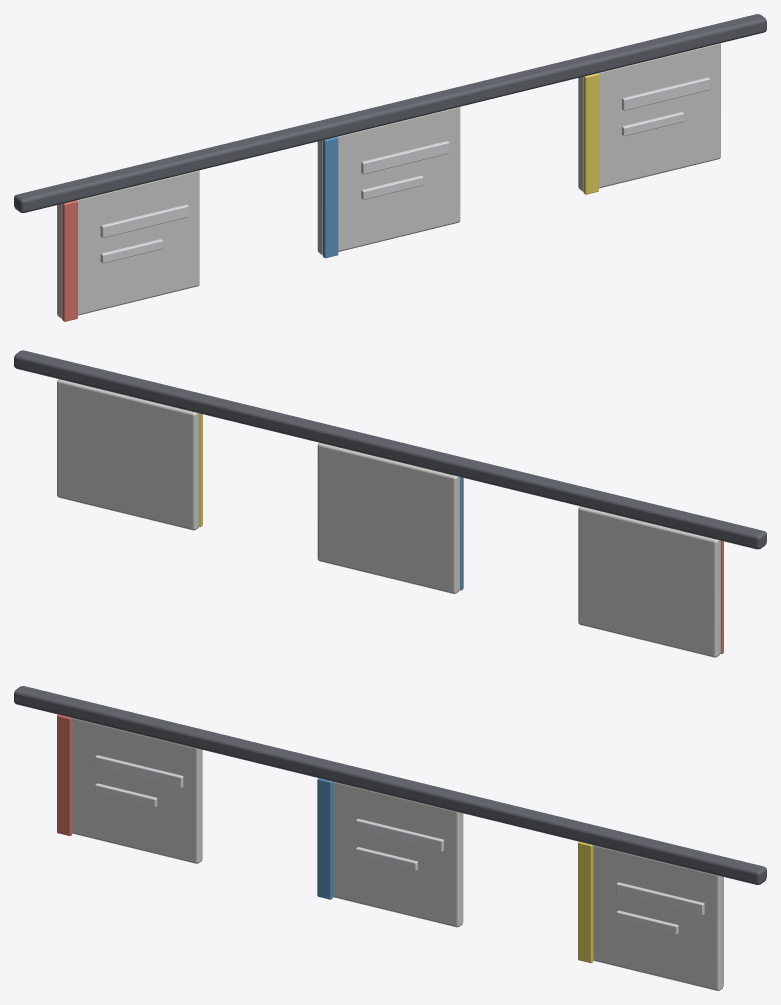
The picture shows the model from 3 angles, top to bottom: view 1: azimuth 30°, elevation 25°; view 2: azimuth 150°, elevation 25°; view 3: azimuth 330°, elevation 25°; orthographic projection.
Visible parts, largest first — view 1: label-card-set; view 2: label-card-set; view 3: label-card-set.
Part boxes in pixels (left/top/right/bottom): label-card-set: left=14, top=14, right=766, bottom=321; label-card-set: left=14, top=350, right=766, bottom=657; label-card-set: left=14, top=686, right=766, bottom=990.
Size of the model in its own units: 0.86 by 0.146 by 0.018.
